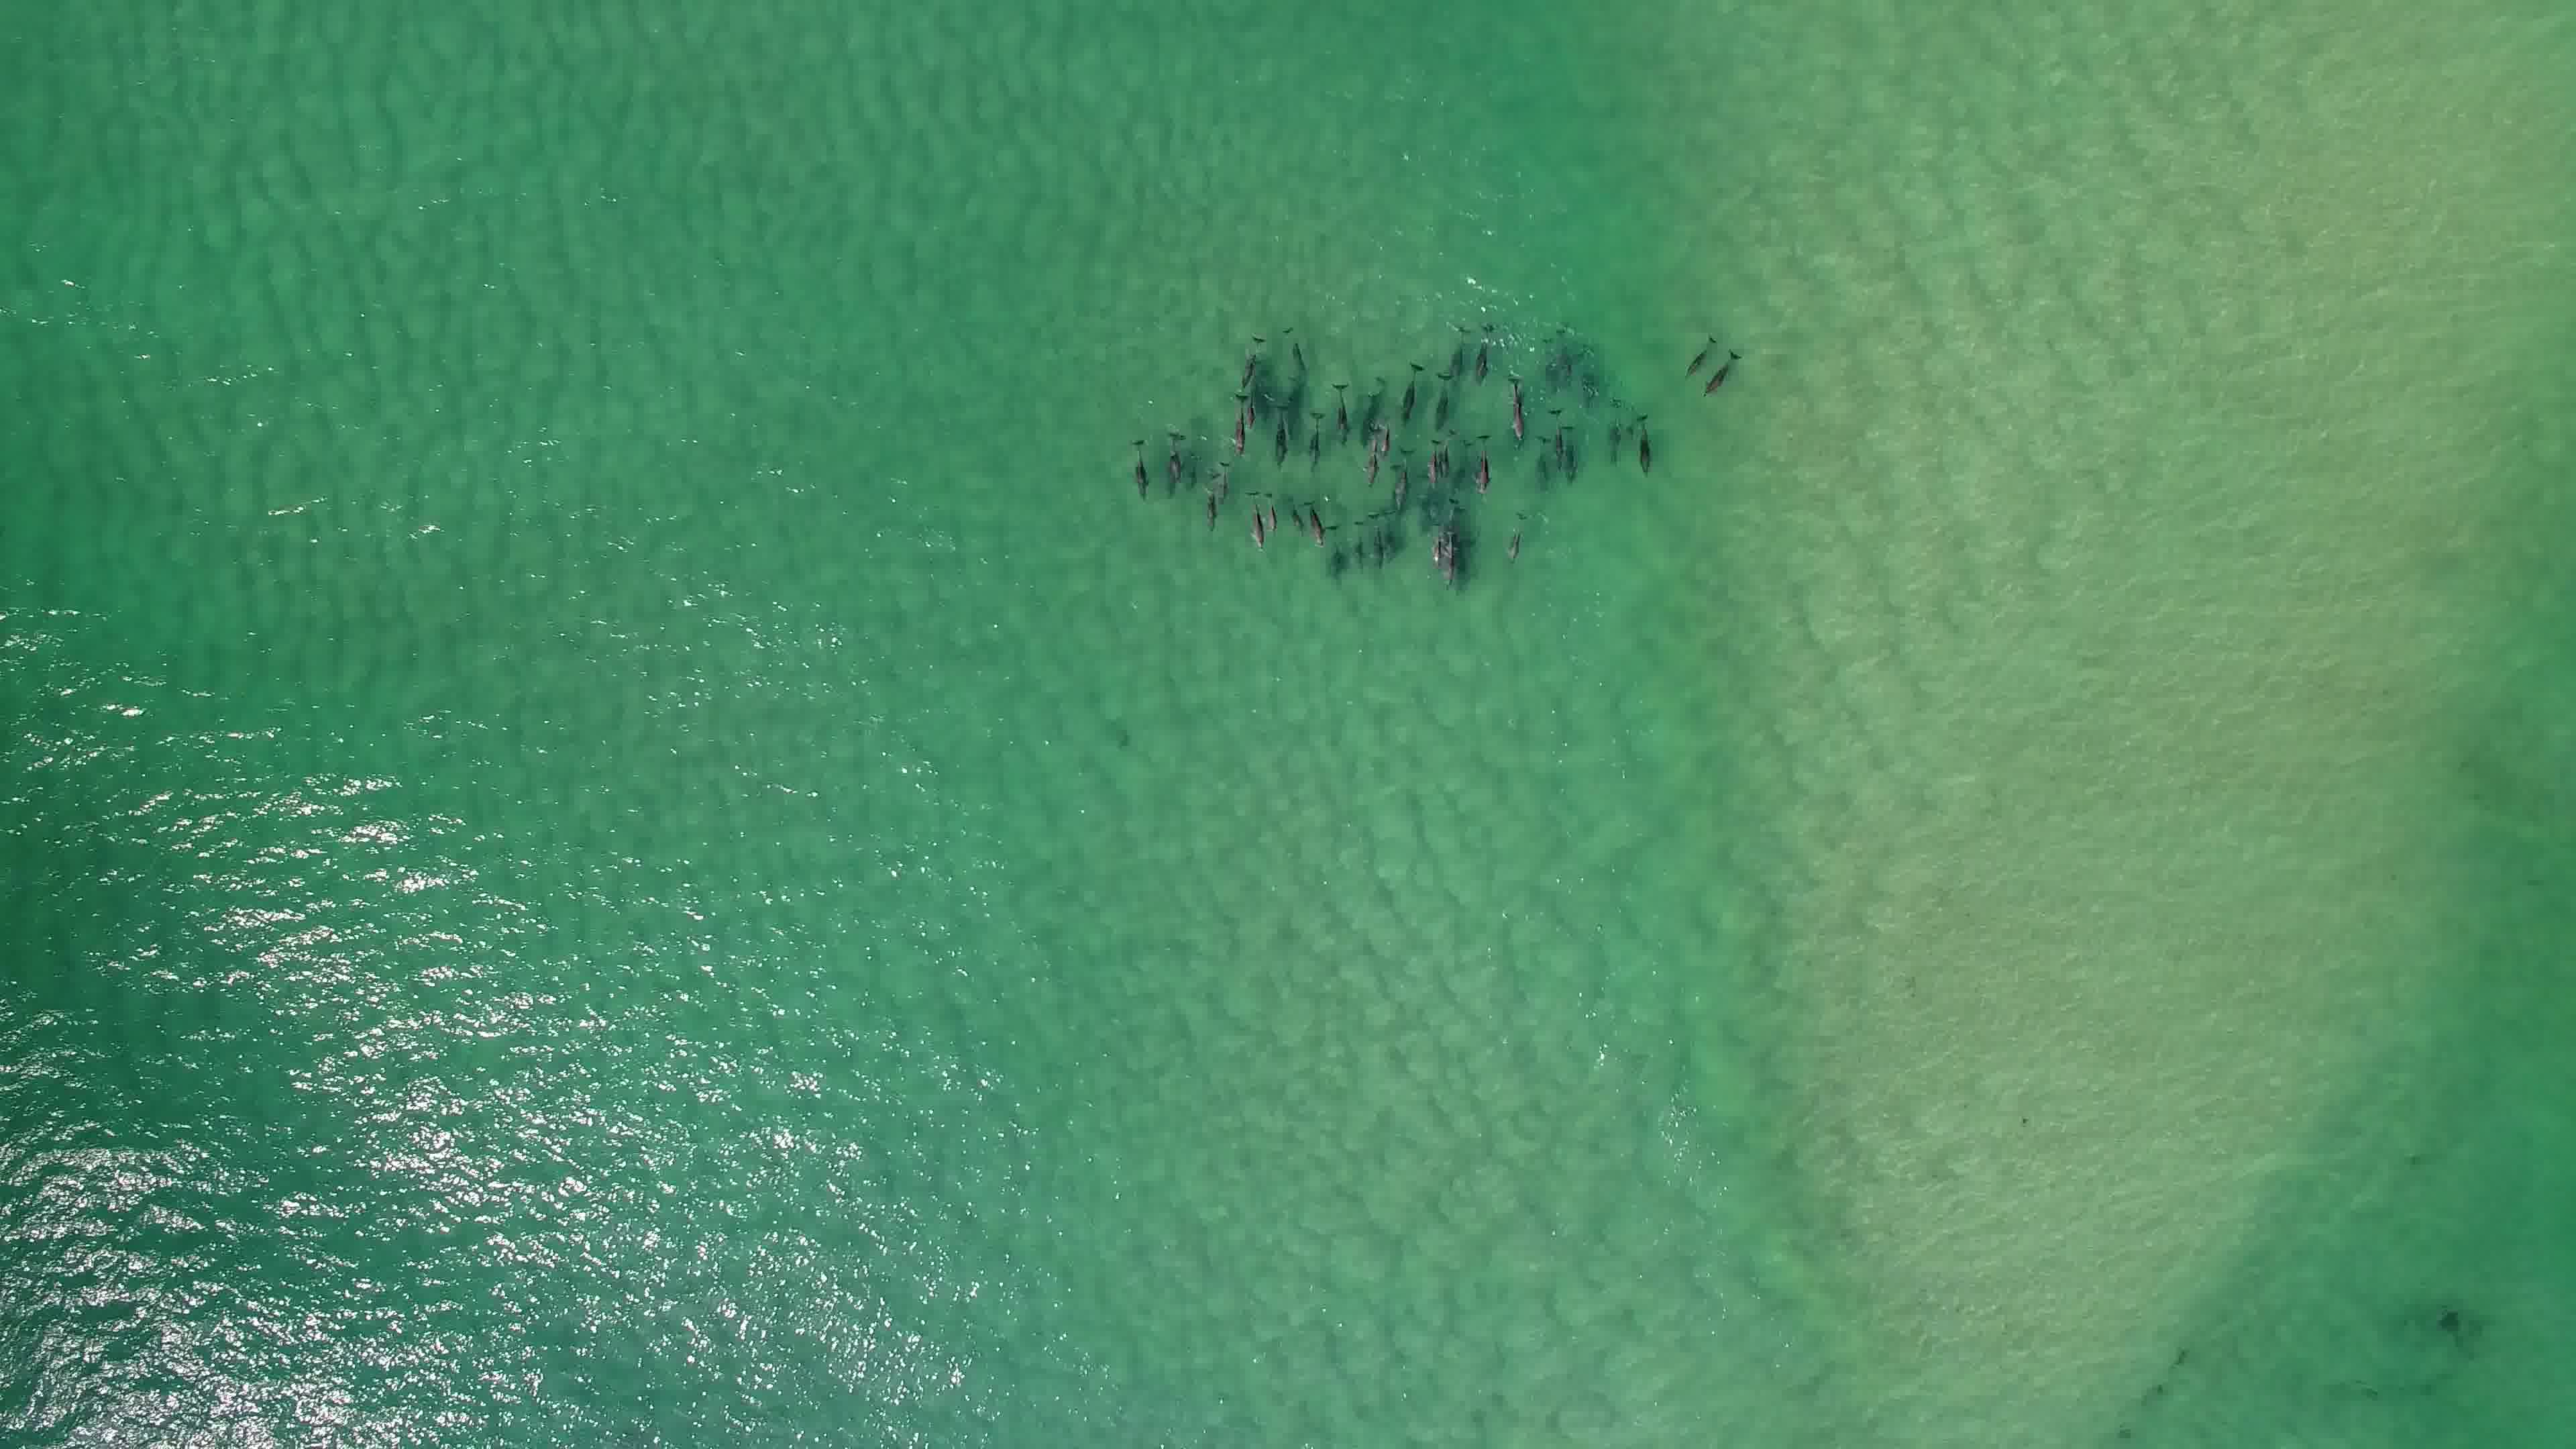dolphin: (1465, 421, 1502, 508), (1437, 313, 1481, 384), (1624, 403, 1663, 478), (1118, 426, 1157, 494), (1157, 421, 1194, 488), (1672, 324, 1721, 373), (1437, 506, 1465, 593), (1297, 488, 1336, 550), (1465, 313, 1500, 380), (1502, 370, 1534, 444), (1594, 393, 1628, 462), (1543, 326, 1578, 391), (1693, 347, 1743, 393), (1244, 479, 1277, 547), (1398, 352, 1428, 426), (1327, 372, 1357, 442), (1428, 366, 1460, 430), (1497, 504, 1529, 568), (1270, 400, 1297, 471), (1192, 471, 1226, 524), (1300, 407, 1329, 469), (1277, 322, 1311, 370), (1357, 506, 1385, 559), (1240, 373, 1265, 430), (1277, 495, 1311, 536), (1375, 502, 1398, 561), (1543, 407, 1566, 464), (1210, 451, 1233, 508), (1375, 410, 1399, 462), (1226, 382, 1244, 453), (1362, 418, 1380, 487), (1424, 524, 1451, 568), (1240, 349, 1269, 389), (1421, 433, 1442, 487), (1258, 485, 1281, 531), (1437, 428, 1454, 481)
